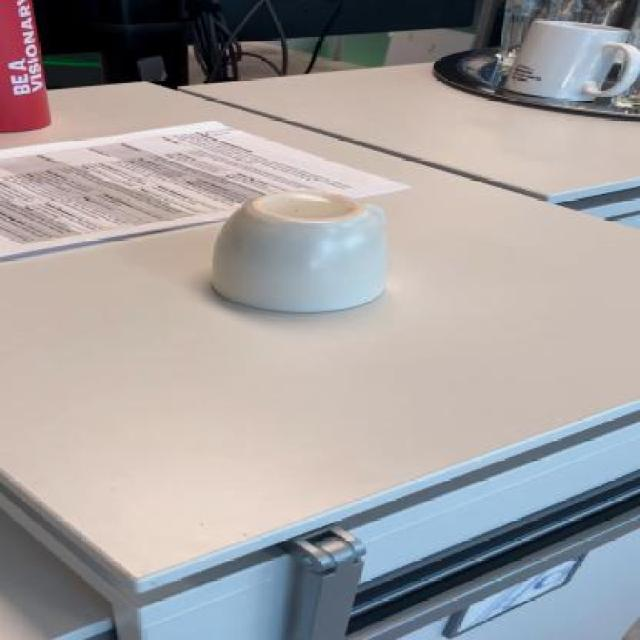cup: (212, 192, 392, 312)
